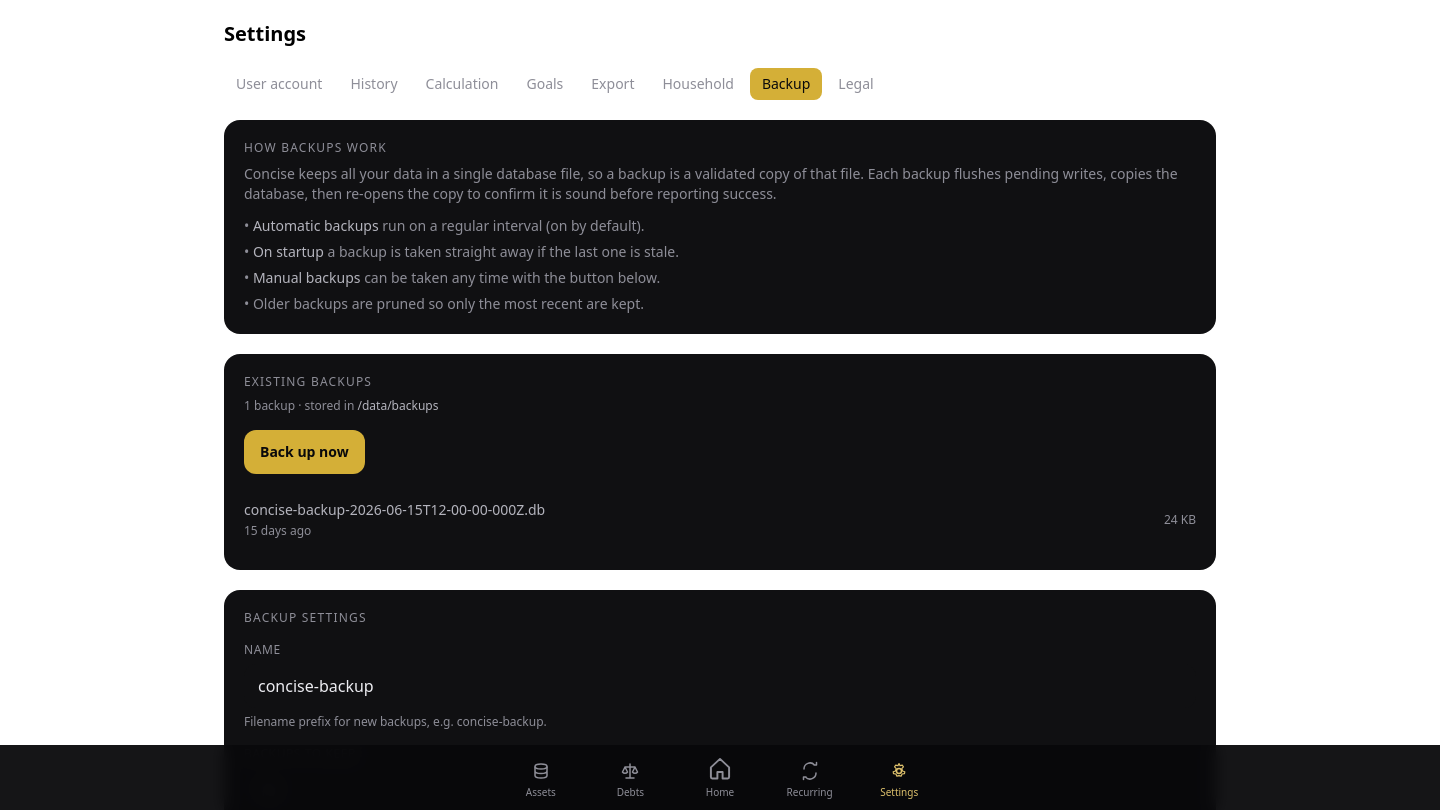
Test: backup settings sub page › runs a manual backup and shows a green success note
Click the button "Back up now": (304, 452) [244,430,365,474]
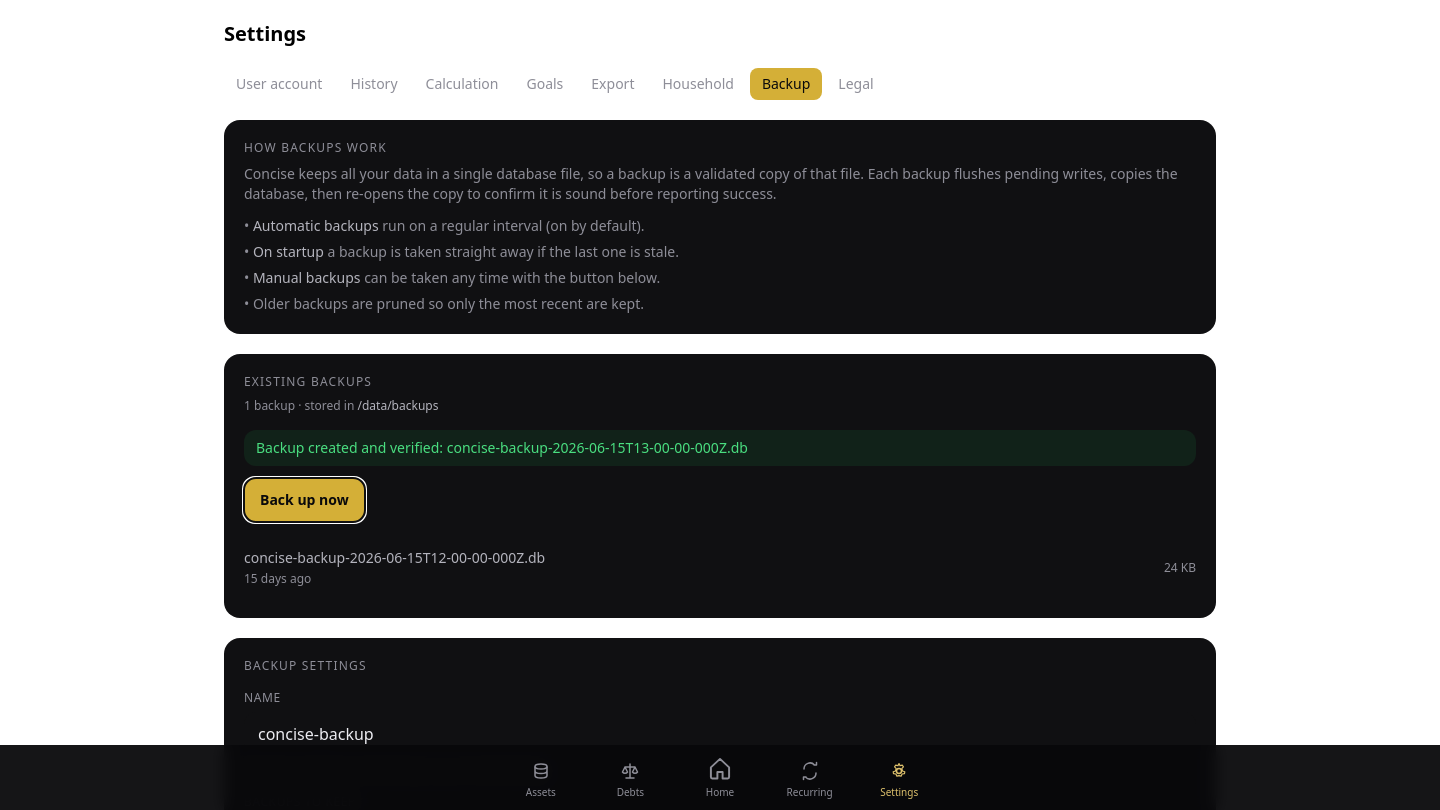
Expected: the text "Backup created and verified: concise-backup-2026-06-15T13-00-00-000Z.db" is shown, [244,430,1196,466]
